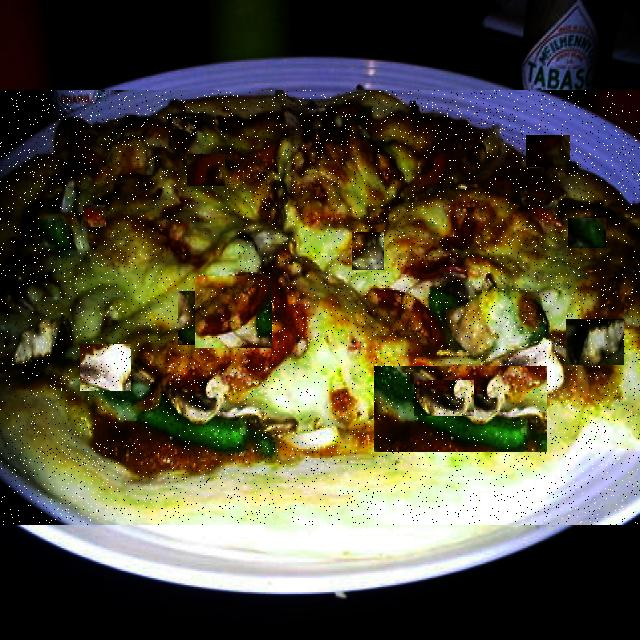Green Pepper: (374, 367, 547, 452), (178, 291, 204, 345), (568, 218, 606, 248)
Mushrooms: (566, 319, 624, 365), (80, 344, 131, 391), (414, 381, 474, 416), (352, 232, 384, 270)
Pepperoni: (195, 276, 272, 348), (163, 223, 238, 274), (526, 135, 570, 167), (361, 140, 392, 167)
Pizza: (0, 90, 640, 525)
Red Pepper: (187, 154, 225, 186), (83, 205, 106, 227)
